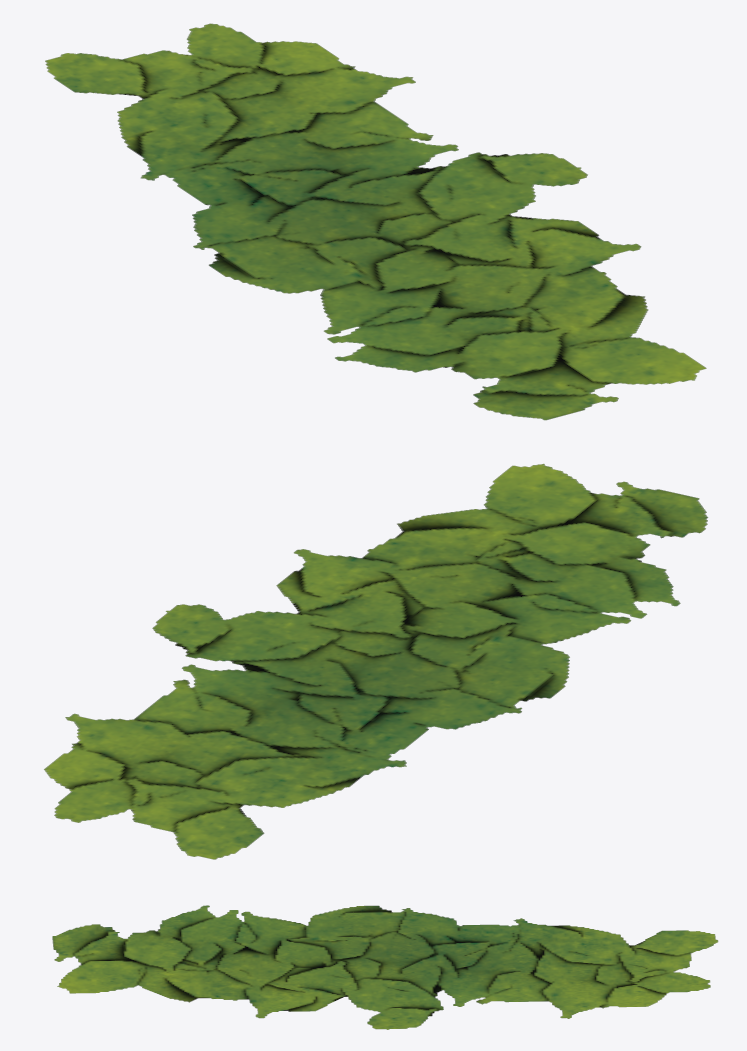
Rendered from Bush_01.fbx.
3 views of the same model, one above another, from view 1: azimuth 30°, elevation 25°; view 2: azimuth 150°, elevation 25°; view 3: azimuth 270°, elevation 25° (orthographic). The views are drawn at different scales.
Visible parts, largest first — view 1: Bush_01; view 2: Bush_01; view 3: Bush_01.
Part boxes in pixels (left/top/right/bottom): Bush_01: left=45, top=23, right=706, bottom=420; Bush_01: left=44, top=463, right=708, bottom=859; Bush_01: left=52, top=905, right=718, bottom=1029.
Size of the model in its own units: 1.38 by 0 by 3.05.
